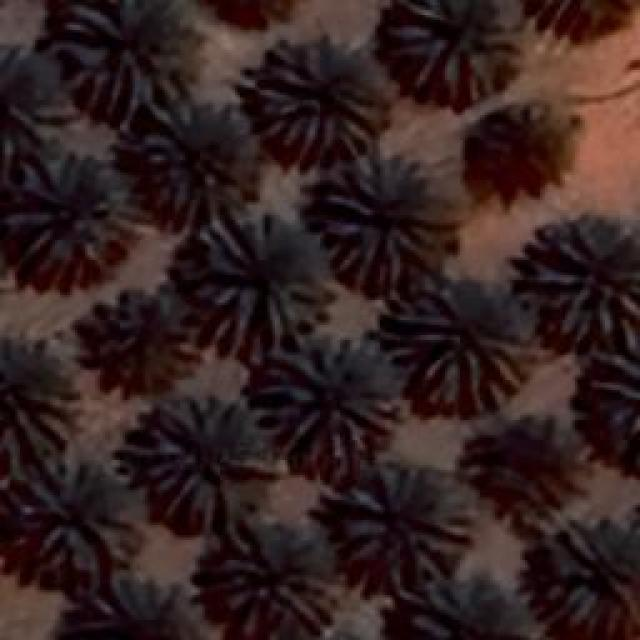PalmTree: (28, 16, 581, 120), (380, 272, 530, 412), (318, 147, 458, 290), (250, 330, 402, 460), (190, 218, 328, 350), (245, 35, 385, 163), (128, 398, 262, 530), (332, 458, 472, 580), (10, 155, 140, 283), (140, 100, 260, 232), (60, 0, 195, 110), (520, 220, 638, 345), (20, 454, 145, 568), (220, 514, 340, 628), (379, 0, 512, 102), (384, 575, 548, 640), (570, 345, 640, 485), (0, 335, 78, 455), (547, 522, 635, 628), (70, 572, 205, 638), (468, 102, 558, 200), (85, 294, 173, 382), (478, 430, 572, 508), (191, 0, 304, 32)
